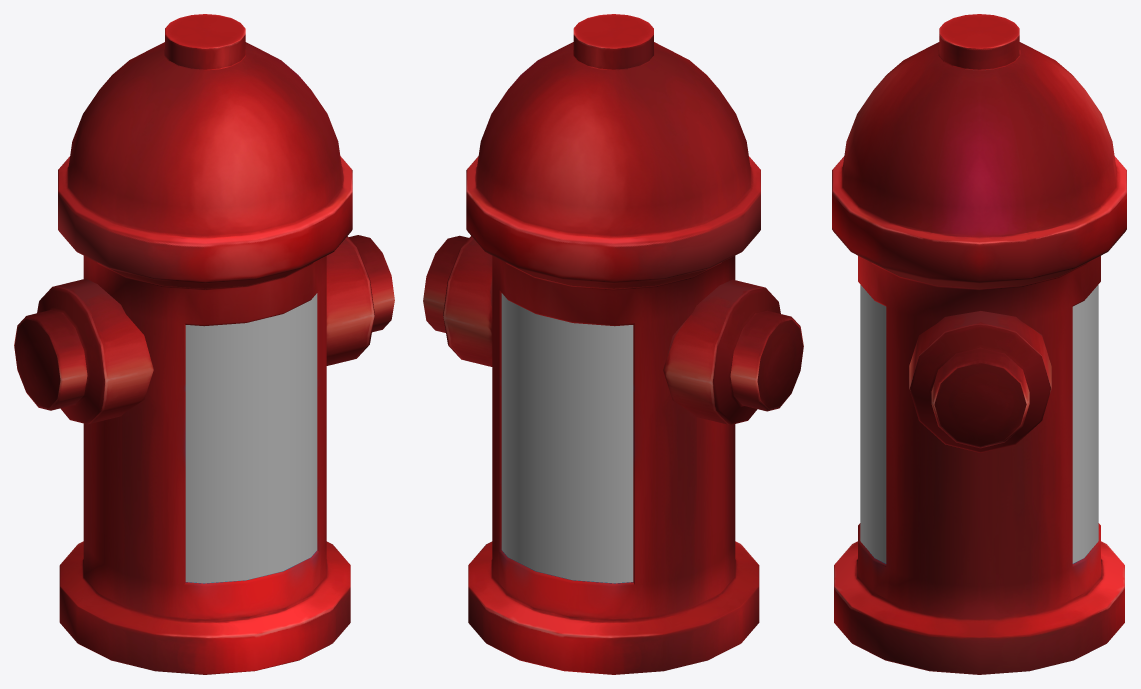
Rendered from shuiping.fbx.
3 renders of one model, left to right at view 1: azimuth 30°, elevation 25°; view 2: azimuth 150°, elevation 25°; view 3: azimuth 270°, elevation 25°, orthographic.
Parts seen in each view (by area): view 1: shuiping, shuiping_boli; view 2: shuiping, shuiping_boli; view 3: shuiping, shuiping_boli.
Part boxes in pixels (x1,y1,x2,y2): shuiping: (14, 14, 394, 674); shuiping_boli: (185, 293, 317, 583); shuiping: (423, 14, 803, 674); shuiping_boli: (501, 293, 633, 583); shuiping: (832, 14, 1126, 674); shuiping_boli: (860, 284, 1098, 563).
Bounding box in the file's own units: 14.06 × 23.4 × 10.74.
